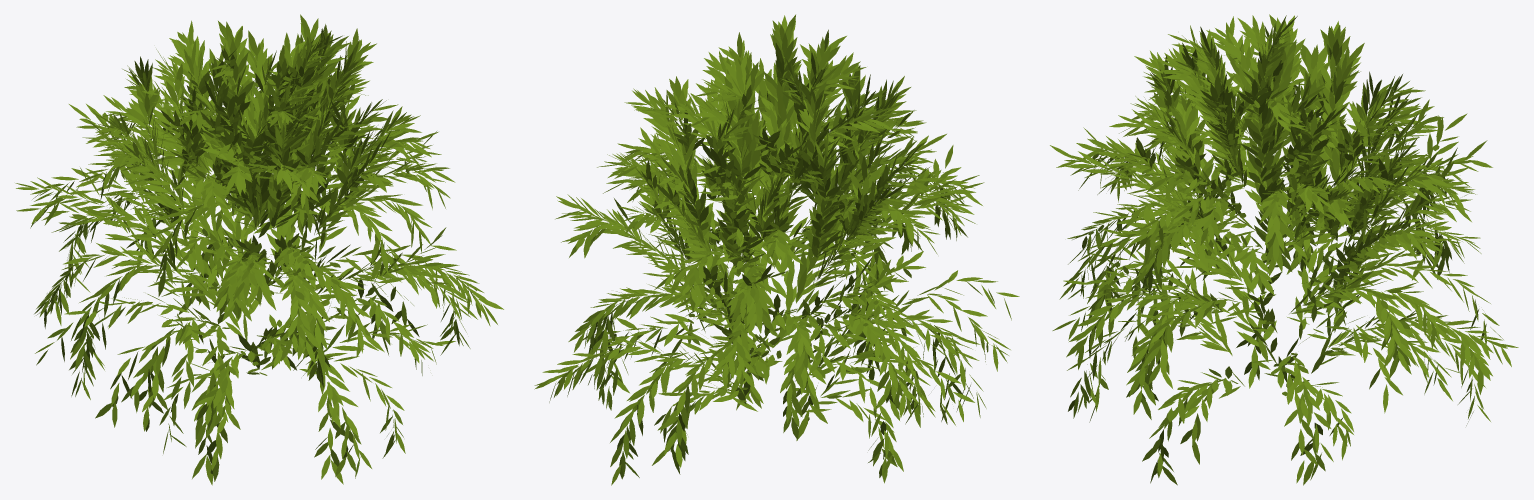
File: tree.fbx
3 renders of one model, left to right at view 1: azimuth 30°, elevation 25°; view 2: azimuth 150°, elevation 25°; view 3: azimuth 270°, elevation 25°, orthographic.
Parts seen in each view (by area): view 1: leaves; view 2: leaves; view 3: leaves.
Boxes of the visible parts, x1,y1,x2,y2 form: leaves: (15,14,503,485); leaves: (534,14,1019,485); leaves: (1050,14,1518,485).
Bounding box in the file's own units: 578 × 604 × 605.
